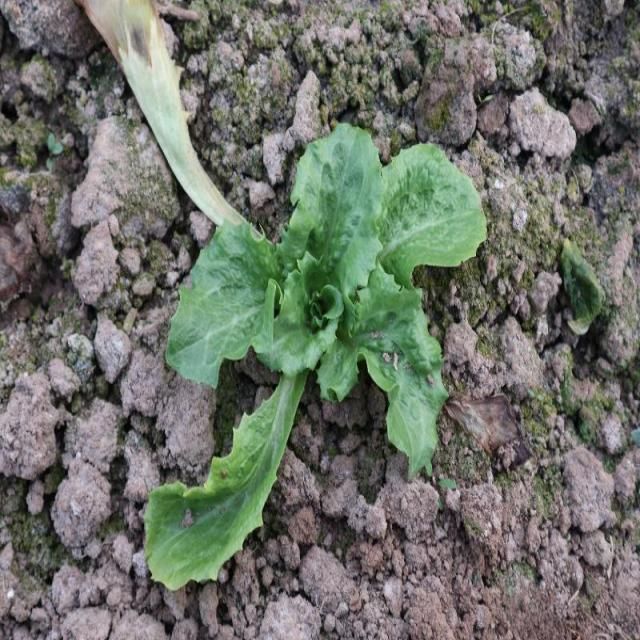crop: (165, 123, 486, 469)
